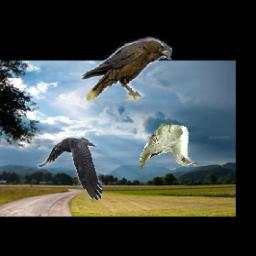Crow: (80, 37, 173, 102), (38, 136, 103, 200)
Cuckoo: (140, 122, 197, 171)
